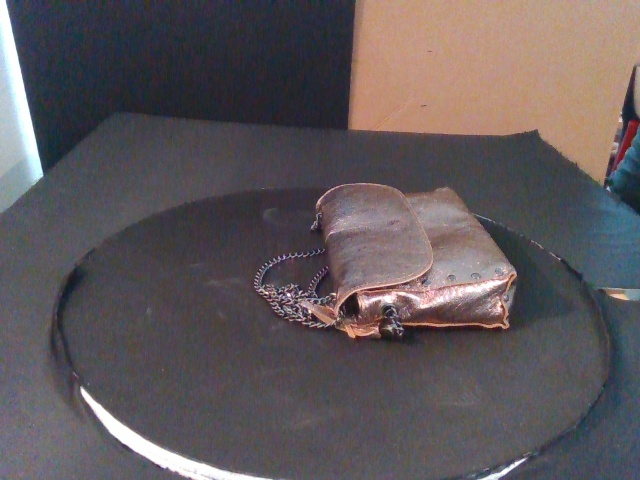bag: (315, 185, 519, 329)
